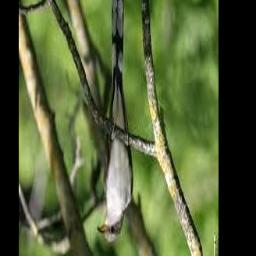Cuckoo: (97, 0, 133, 241)
